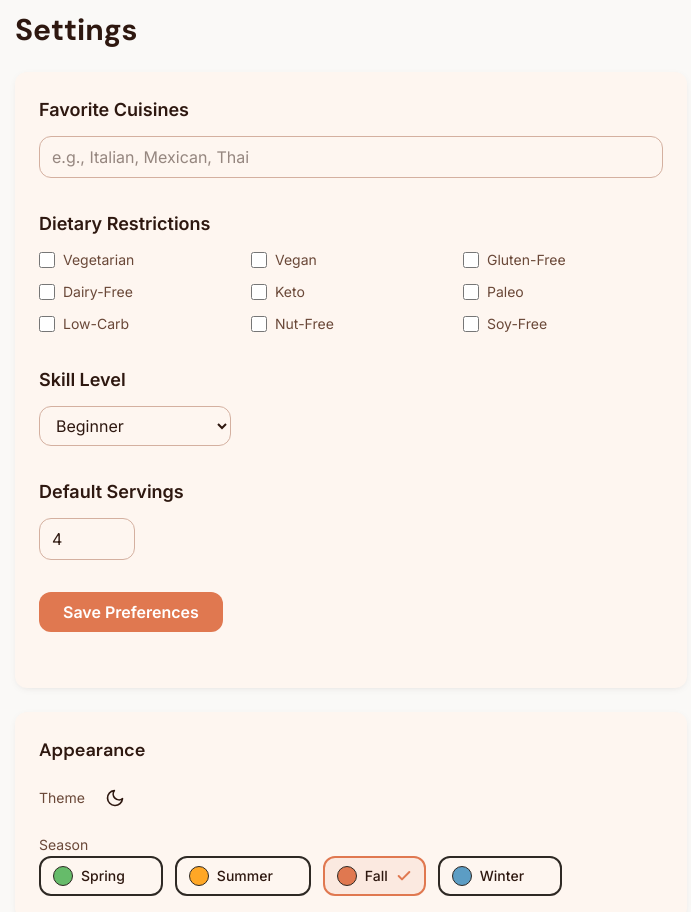
Test: SettingsPage › Component: Success message shown after save › should display success message after preferences are saved
The image size is (691, 912).
Click the button "Save Preferences". click: [131, 612]
box: [39,592,223,632]
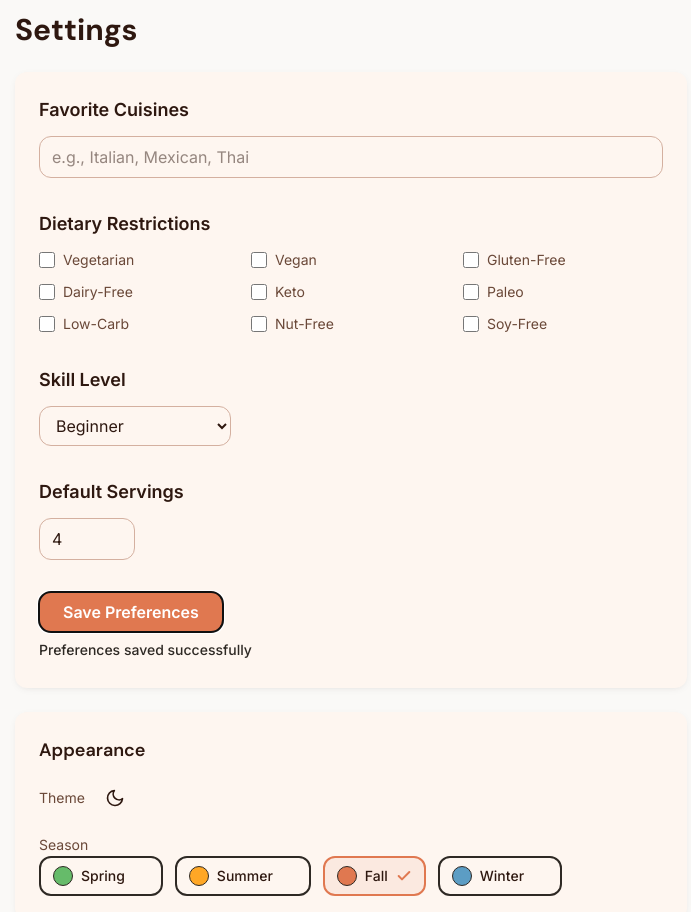
Check: the text "Preferences saved successfully" is shown, box [39,641,252,658]
